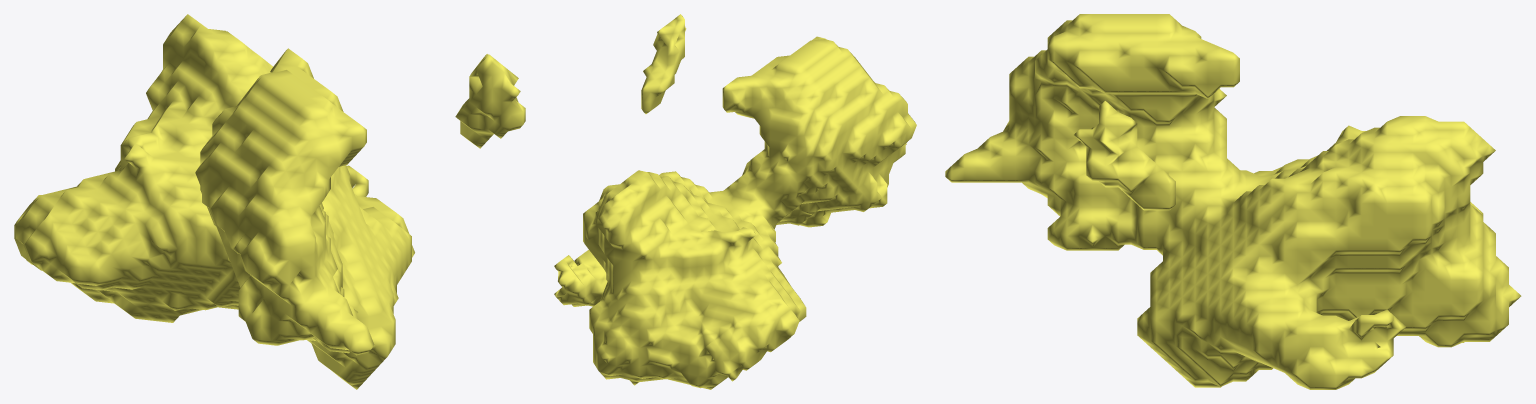
File: tumor_mesh.glb
3 views of the same model, side by side, from view 1: azimuth 30°, elevation 25°; view 2: azimuth 150°, elevation 25°; view 3: azimuth 270°, elevation 25° (orthographic). The views are drawn at different scales.
Visible parts, largest first — view 1: edema; view 2: edema; view 3: edema.
Boxes of the visible parts, x1,y1,x2,y2 form: edema: [14, 14, 525, 389]; edema: [554, 14, 916, 389]; edema: [945, 14, 1521, 389].
Bounding box in the file's own units: 28 × 28 × 45.
